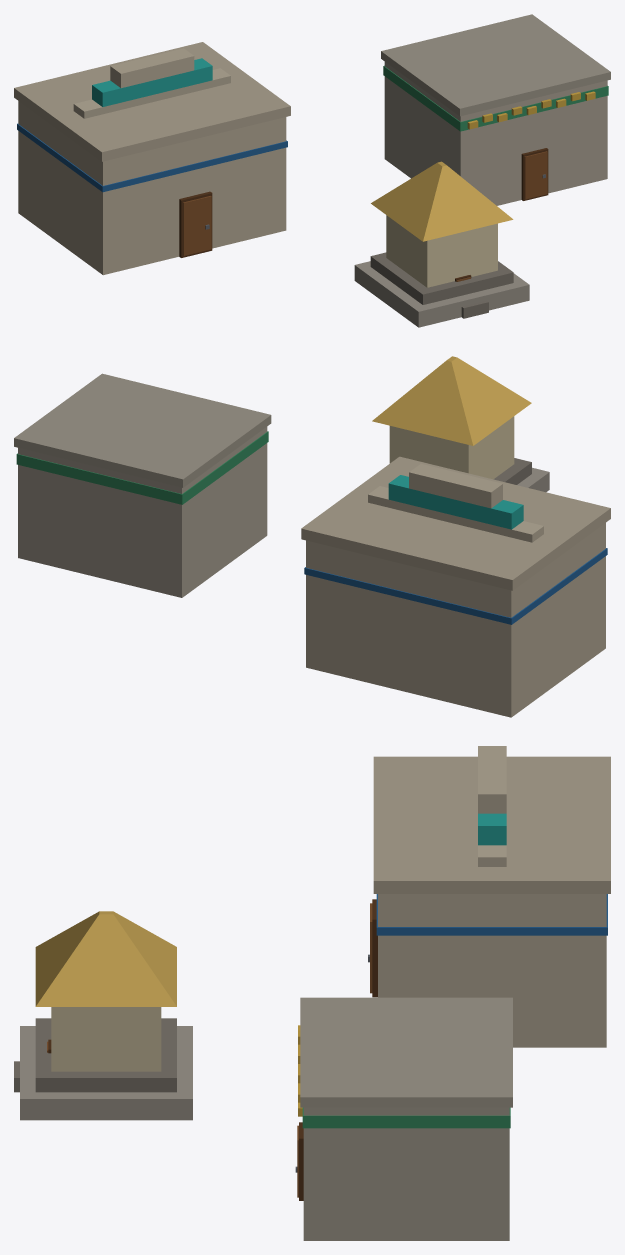
The model's file is frog_compound_broken.glb.
The picture shows the model from 3 angles, top to bottom: view 1: azimuth 30°, elevation 25°; view 2: azimuth 150°, elevation 25°; view 3: azimuth 270°, elevation 25°; orthographic projection. The views are drawn at different scales.
Parts seen in each view (by area): view 1: frog_compound_piece4, frog_compound_piece9, frog_compound_piece11, frog_compound_piece10, frog_compound_piece6, frog_compound_piece8, frog_compound_piece7, frog_compound_piece3, frog_compound_piece12, frog_compound_piece0, frog_compound_piece2, frog_compound_piece1; view 2: frog_compound_piece4, frog_compound_piece8, frog_compound_piece10, frog_compound_piece11, frog_compound_piece12, frog_compound_piece2, frog_compound_piece9, frog_compound_piece3, frog_compound_piece0, frog_compound_piece7, frog_compound_piece5, frog_compound_piece1; view 3: frog_compound_piece4, frog_compound_piece10, frog_compound_piece9, frog_compound_piece1, frog_compound_piece8, frog_compound_piece7, frog_compound_piece11, frog_compound_piece5, frog_compound_piece0, frog_compound_piece6, frog_compound_piece2, frog_compound_piece3.
Part boxes in pixels (x1,y1,x2,y2): frog_compound_piece4: (14,46,290,231); frog_compound_piece9: (447,36,610,205); frog_compound_piece11: (43,122,207,275); frog_compound_piece10: (366,161,529,327); frog_compound_piece6: (174,122,373,292); frog_compound_piece8: (398,14,536,131); frog_compound_piece7: (437,18,562,135); frog_compound_piece3: (418,74,460,173); frog_compound_piece12: (384,90,419,150); frog_compound_piece0: (384,141,424,178); frog_compound_piece2: (381,41,420,103); frog_compound_piece1: (187,45,429,234); frog_compound_piece4: (320,456,567,717); frog_compound_piece8: (14,433,225,562); frog_compound_piece10: (372,356,549,492); frog_compound_piece11: (491,480,610,696); frog_compound_piece12: (38,488,221,594); frog_compound_piece2: (64,466,326,618); frog_compound_piece9: (48,373,271,502); frog_compound_piece3: (192,433,267,552); frog_compound_piece0: (167,519,365,677); frog_compound_piece7: (20,413,256,465); frog_compound_piece5: (189,465,384,686); frog_compound_piece1: (219,506,372,657); frog_compound_piece4: (373,746,610,988); frog_compound_piece10: (14,911,192,1120); frog_compound_piece9: (295,997,430,1240); frog_compound_piece1: (378,870,610,1047); frog_compound_piece8: (394,997,512,1240); frog_compound_piece7: (335,997,498,1221); frog_compound_piece11: (370,756,476,905); frog_compound_piece5: (467,872,610,1025); frog_compound_piece0: (542,976,606,1047); frog_compound_piece6: (177,824,384,1045); frog_compound_piece2: (477,957,606,1023); frog_compound_piece3: (187,997,410,1049).
Size of the model in its own units: 5.25 by 1.68 by 4.18.
